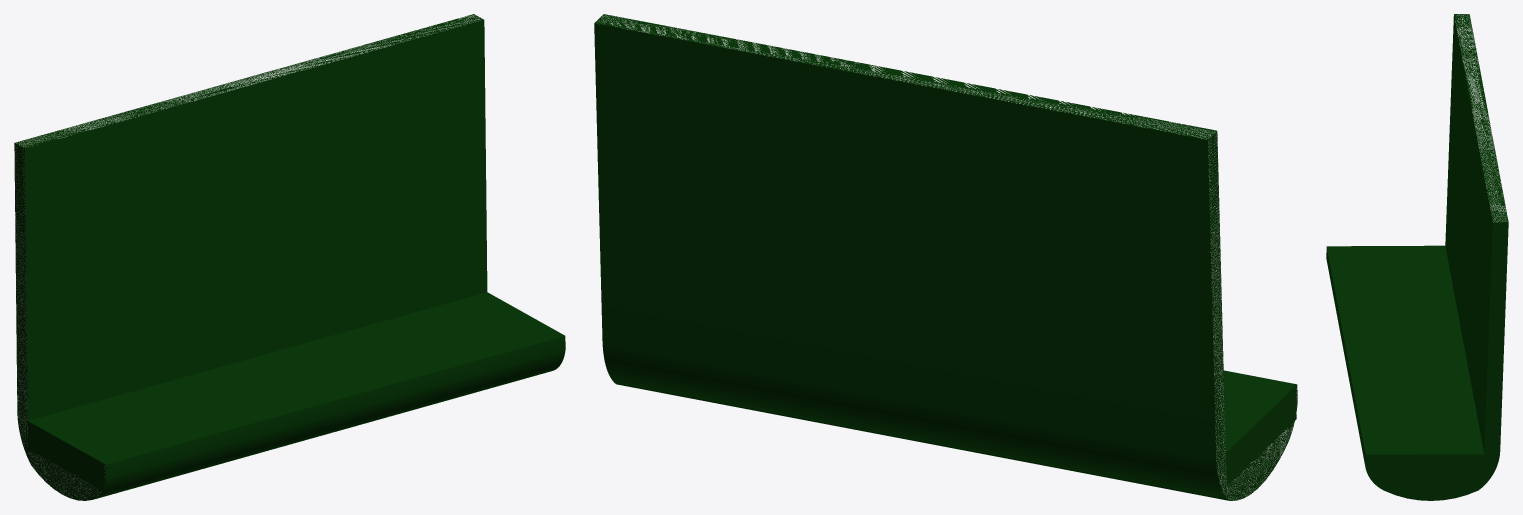
The model's file is original-19.obj.
The picture shows the model from 3 angles, left to right: view 1: azimuth 30°, elevation 25°; view 2: azimuth 150°, elevation 25°; view 3: azimuth 270°, elevation 25°; orthographic projection. The views are drawn at different scales.
Visible parts, largest first — view 1: Group18/mesh31/mesh31-geometry#mesh31-geometry; view 2: Group18/mesh31/mesh31-geometry#mesh31-geometry; view 3: Group18/mesh31/mesh31-geometry#mesh31-geometry.
Part boxes in pixels (x1,y1,x2,y2): Group18/mesh31/mesh31-geometry#mesh31-geometry: (14,14,565,500); Group18/mesh31/mesh31-geometry#mesh31-geometry: (594,14,1297,500); Group18/mesh31/mesh31-geometry#mesh31-geometry: (1326,14,1508,500).
Bounding box in the file's own units: 0.303 × 0.1913 × 0.112.
